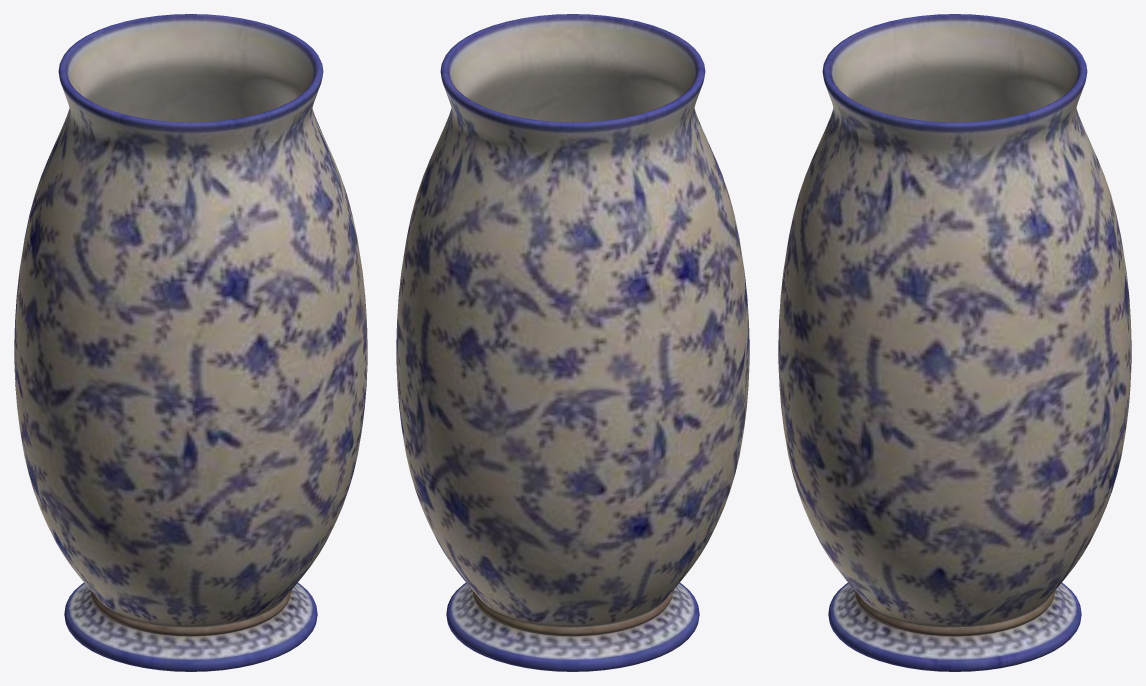
Rendered from antique_ceramic_vase_01.glb.
3 renders of one model, left to right at view 1: azimuth 30°, elevation 25°; view 2: azimuth 150°, elevation 25°; view 3: azimuth 270°, elevation 25°, orthographic.
Parts seen in each view (by area): view 1: antique_ceramic_vase_01; view 2: antique_ceramic_vase_01; view 3: antique_ceramic_vase_01.
Boxes of the visible parts, left/top/right/bottom form: antique_ceramic_vase_01: left=14, top=14, right=367, bottom=671; antique_ceramic_vase_01: left=396, top=14, right=749, bottom=671; antique_ceramic_vase_01: left=778, top=14, right=1131, bottom=671.
Bounding box in the file's own units: 0.255 × 0.4396 × 0.255.
Materials: 1 (1 with a texture image).
